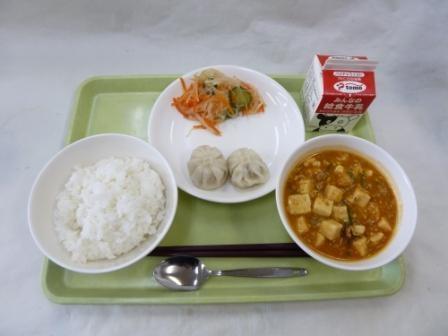Milk: (294, 47, 384, 139)
Rice: (35, 133, 169, 272)
Salad: (170, 60, 262, 130)
Spicy chili-flavored tofu: (277, 135, 407, 260)
manty: (184, 133, 271, 192)
